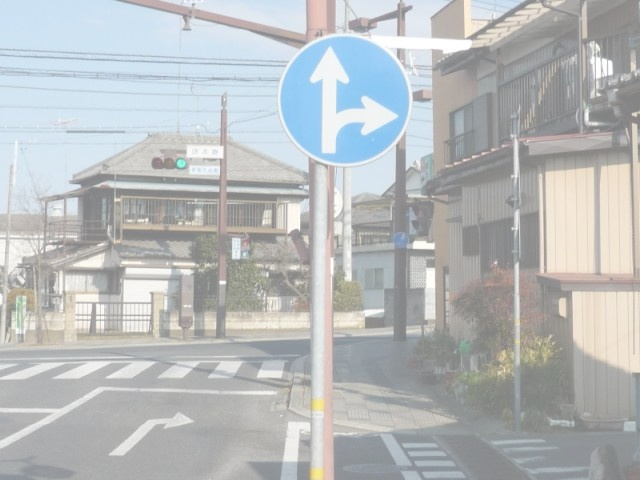Direction_sign: (271, 42, 414, 178)
